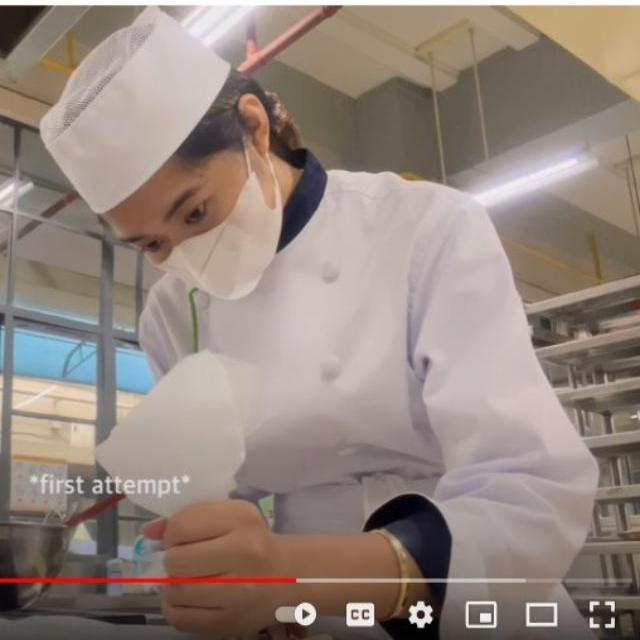bare_hand: (137, 502, 343, 618)
